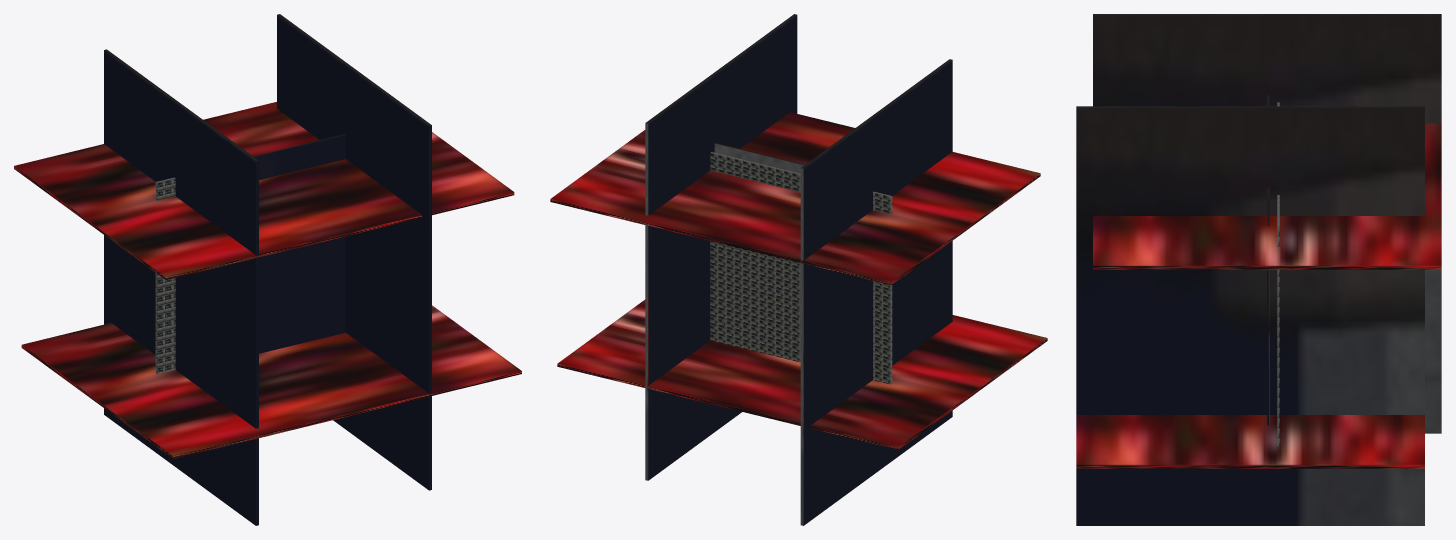
Rendered from juggernaut3.glb.
3 views of the same model, side by side, from view 1: azimuth 30°, elevation 25°; view 2: azimuth 150°, elevation 25°; view 3: azimuth 270°, elevation 25° (orthographic). The views are drawn at different scales.
Visible parts, largest first — view 1: Cube.5137, Cube.5138, Cube.4071, Cube.4070, Cube.5136; view 2: Cube.5137, Cube.4071, Cube.5138, Cube.4070, Cube.5136; view 3: Cube.5138, Cube.5137, Cube.4071, Cube.4070, Cube.5136.
Boxes of the visible parts, bbox=[...] form: Cube.5137: bbox=[104, 49, 258, 525]; Cube.5138: bbox=[277, 14, 431, 490]; Cube.4071: bbox=[14, 102, 514, 279]; Cube.4070: bbox=[21, 305, 521, 458]; Cube.5136: bbox=[253, 134, 345, 353]; Cube.5137: bbox=[800, 59, 952, 525]; Cube.4071: bbox=[550, 112, 1040, 285]; Cube.5138: bbox=[645, 14, 797, 480]; Cube.4070: bbox=[557, 299, 1047, 449]; Cube.5136: bbox=[714, 143, 804, 173]; Cube.5138: bbox=[1076, 106, 1424, 525]; Cube.5137: bbox=[1093, 14, 1441, 433]; Cube.4071: bbox=[1093, 123, 1441, 269]; Cube.4070: bbox=[1076, 415, 1424, 468]; Cube.5136: bbox=[1267, 95, 1269, 425].
Bounding box in the file's own units: 1244 × 1244 × 984.
47 materials, 47 textured.
